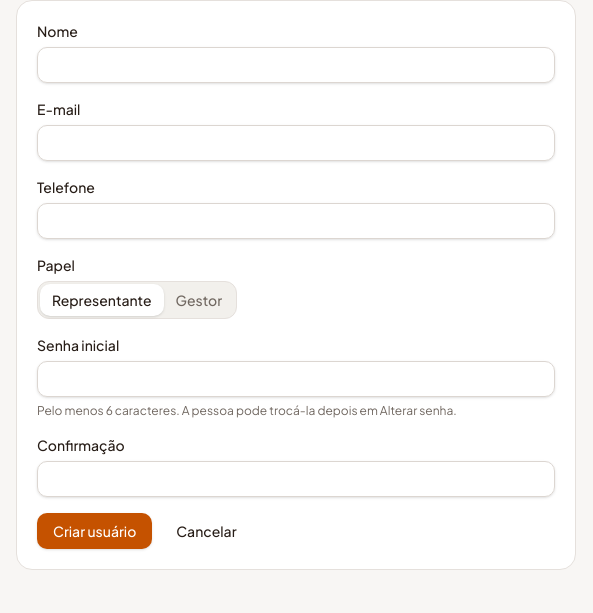
Test: NovoUsuarioPage › confirmação diferente mostra "As senhas não conferem." e não envia
This screenshot has width=593, height=613.
Type "Bruna Lima" into the field labelled "Nome" at point(296, 65), box [37,47,555,83]
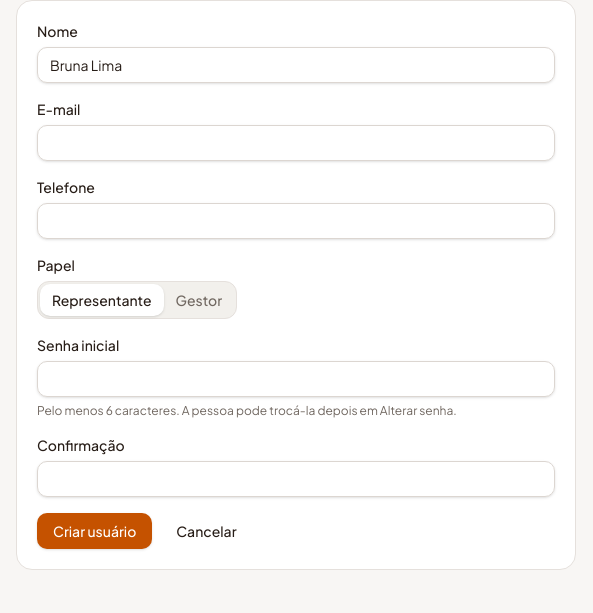
Type "bruna@chokolaten.com.br" into the field labelled "E-mail" at point(296, 143), box [37,125,555,161]
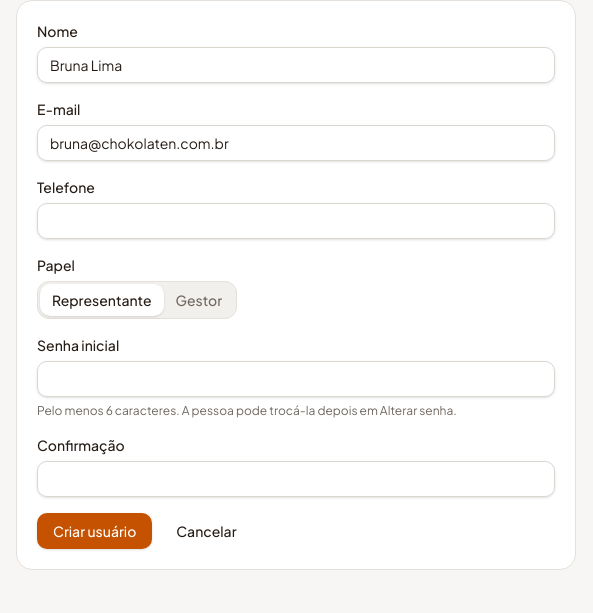
Type "(47) 99977-0000" into the field labelled "Telefone" at point(296, 221), box [37,203,555,239]
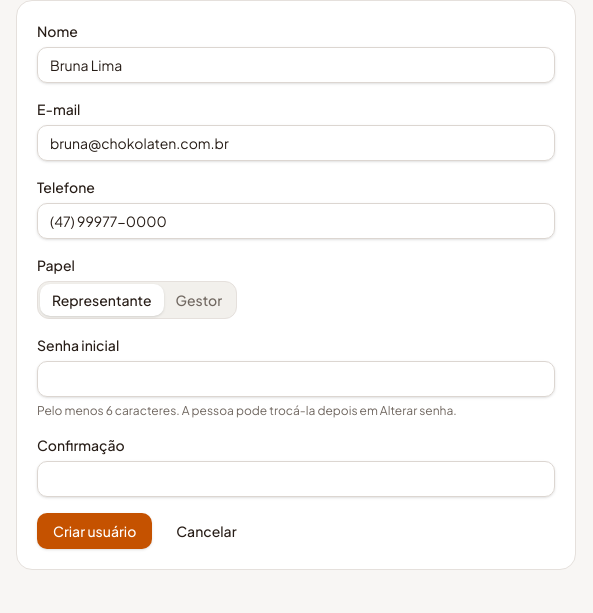
Type "segredo1" into the password field labelled "Senha inicial" at point(296, 379), box [37,361,555,397]
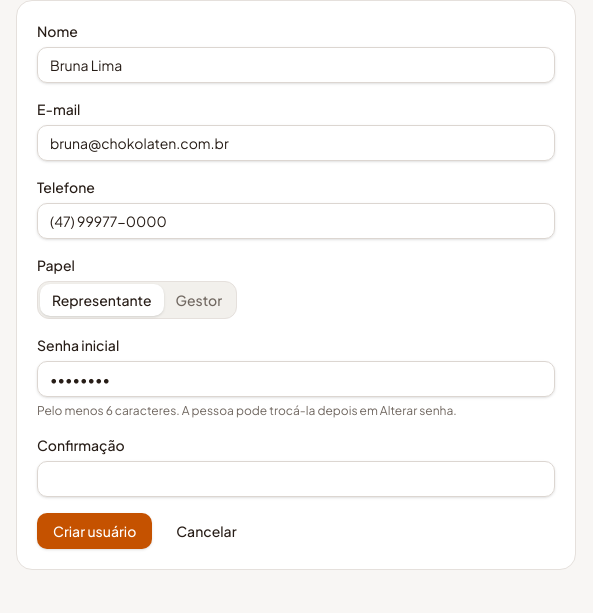
Type "segredo2" into the password field labelled "Confirmação" at point(296, 479), box [37,461,555,497]
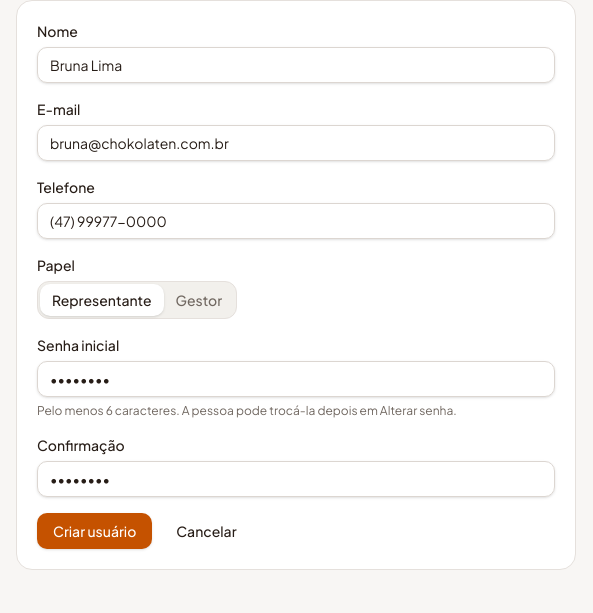
Click the button "Criar usuário" at point(95, 531), box [37,513,152,549]
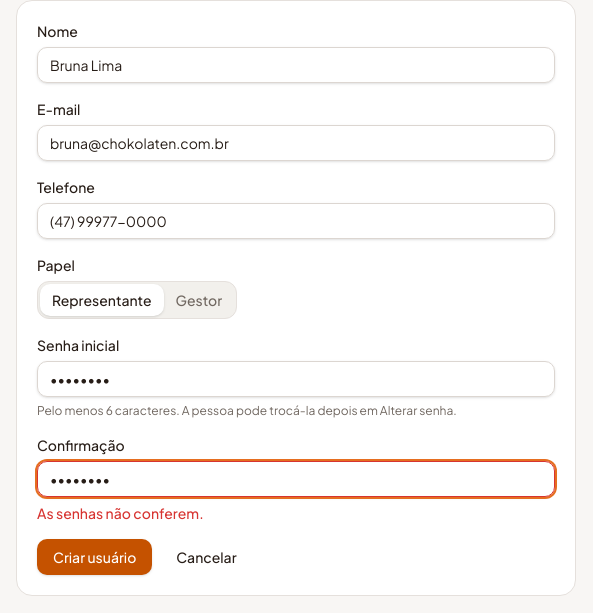
Check: the text "As senhas não conferem." is shown, box [37,504,204,522]
